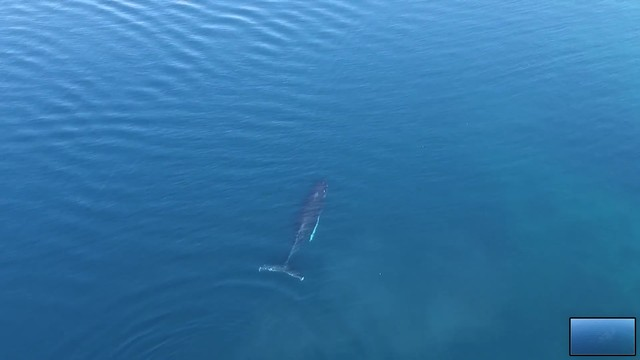whale: (257, 173, 333, 287)
